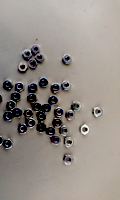nut: (3, 139, 13, 150), (4, 111, 14, 122), (18, 124, 28, 135), (80, 125, 90, 136), (93, 107, 103, 118), (72, 101, 82, 112), (66, 110, 76, 121), (54, 107, 64, 118), (37, 123, 47, 134), (26, 119, 37, 129), (24, 109, 34, 120), (7, 100, 17, 111), (3, 80, 14, 90), (18, 62, 28, 73), (64, 155, 74, 165), (64, 138, 74, 148), (52, 136, 62, 146), (53, 118, 63, 128), (60, 126, 70, 136), (13, 108, 23, 118), (35, 53, 45, 63), (31, 44, 41, 54), (22, 49, 32, 59), (28, 58, 38, 68), (61, 81, 71, 91), (39, 78, 49, 88), (51, 83, 61, 93), (49, 96, 59, 106), (28, 83, 38, 93), (12, 92, 22, 102), (27, 93, 37, 103), (33, 102, 43, 112), (37, 113, 47, 123), (41, 104, 51, 114), (63, 54, 72, 64), (15, 82, 24, 92), (48, 127, 55, 136), (0, 136, 4, 146), (0, 94, 2, 104)
